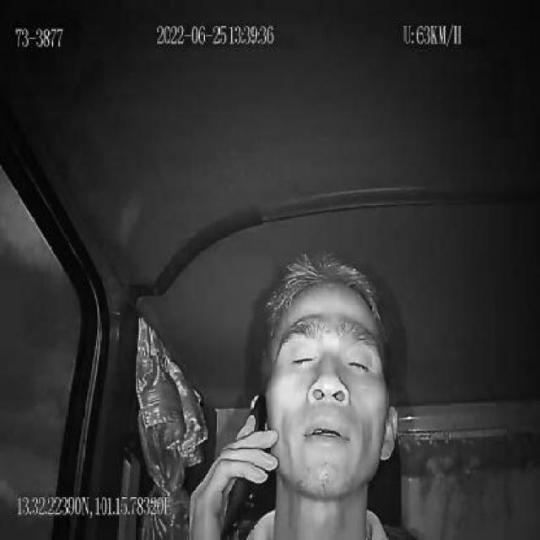phone: (222, 389, 267, 540)
